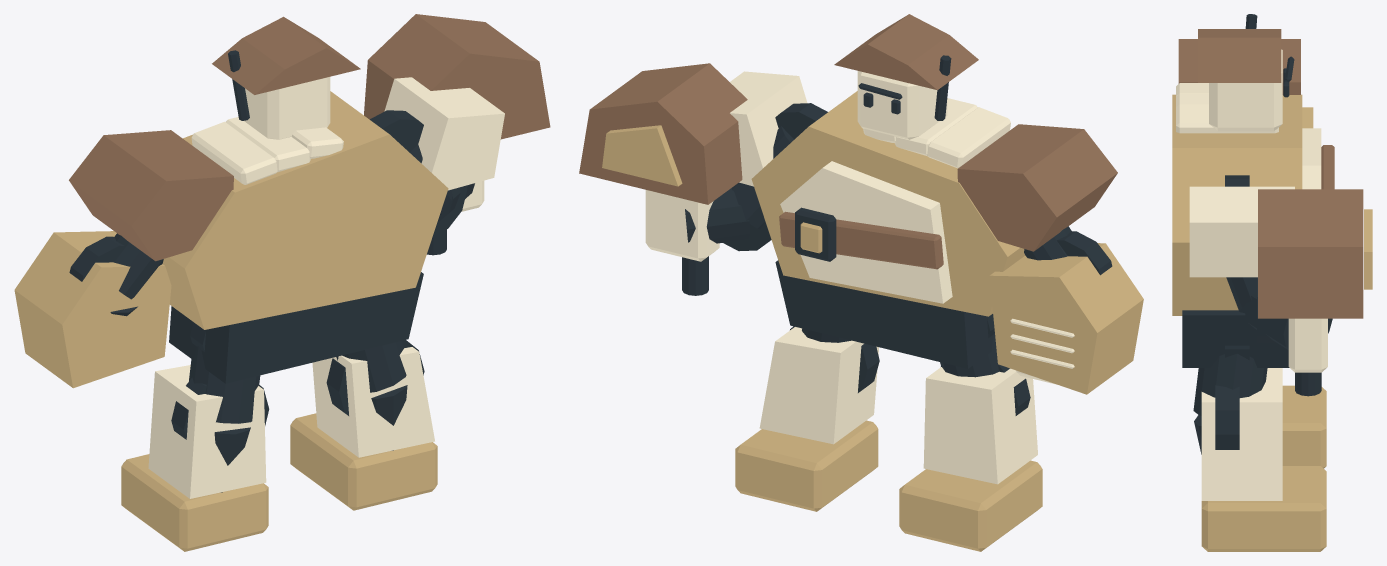
3 renders of one model, left to right at view 1: azimuth 30°, elevation 25°; view 2: azimuth 150°, elevation 25°; view 3: azimuth 270°, elevation 25°, orthographic. The views are drawn at different scales.
Visible parts, largest first — view 1: desktop_rubble, left_rubble_gauntlet, left_shoulder_slab, cornerweight_head, ledger_waist, L_stone_shin, right_desktop_fragment, L_shoe, R_shoe, R_stone_shin, folded_hardhat, clerk_head (+13 smaller); view 2: desktop_rubble, left_rubble_gauntlet, cornerweight_head, left_shoulder_slab, front_paperweight, ledger_waist, L_stone_shin, R_stone_shin, L_shoe, R_shoe, folded_hardhat, right_desktop_fragment (+15 smaller); view 3: cornerweight_head, desktop_rubble, R_shoe, R_stone_shin, right_desktop_fragment, folded_hardhat, ledger_waist, clerk_head, L_shoe, R_thigh, R_hand, left_shoulder_slab (+14 smaller).
Boxes of the visible parts, x1,y1,x2,y2 form: desktop_rubble: (162, 91, 448, 329); left_rubble_gauntlet: (14, 231, 171, 388); left_shoulder_slab: (69, 130, 233, 261); cornerweight_head: (364, 14, 550, 139); ledger_waist: (169, 272, 423, 383); L_stone_shin: (148, 365, 266, 498); right_desktop_fragment: (384, 77, 504, 190); L_shoe: (121, 454, 268, 551); R_shoe: (290, 413, 437, 510); R_stone_shin: (312, 347, 434, 457); folded_hardhat: (212, 16, 360, 94); clerk_head: (238, 77, 330, 139); desktop_rubble: (751, 91, 1025, 316); left_rubble_gauntlet: (989, 243, 1143, 394); cornerweight_head: (579, 63, 747, 204); left_shoulder_slab: (957, 124, 1117, 251); front_paperweight: (780, 161, 952, 303); ledger_waist: (775, 260, 993, 368); L_stone_shin: (923, 367, 1037, 484); R_stone_shin: (759, 327, 878, 444); L_shoe: (899, 460, 1042, 551); R_shoe: (735, 420, 878, 511); folded_hardhat: (834, 14, 978, 89); right_desktop_fragment: (730, 71, 807, 186); cornerweight_head: (1258, 189, 1363, 318); desktop_rubble: (1172, 94, 1302, 315); R_shoe: (1201, 466, 1326, 551); R_stone_shin: (1201, 368, 1282, 500); right_desktop_fragment: (1189, 186, 1294, 277); folded_hardhat: (1198, 29, 1281, 82); ledger_waist: (1182, 310, 1289, 367); clerk_head: (1209, 49, 1282, 131); L_shoe: (1282, 385, 1326, 468); R_thigh: (1193, 353, 1267, 415); R_hand: (1288, 318, 1327, 372); left_shoulder_slab: (1178, 39, 1300, 94).
Size of the model in its own units: 2.33 by 2.08 by 0.8175.
